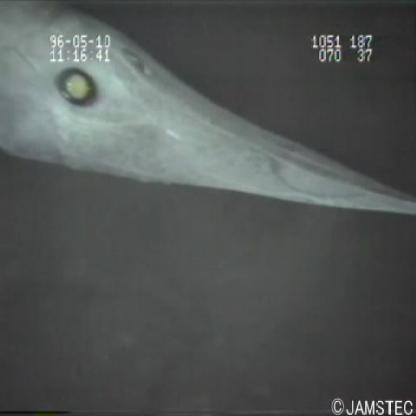Bio: (1, 3, 415, 220)
